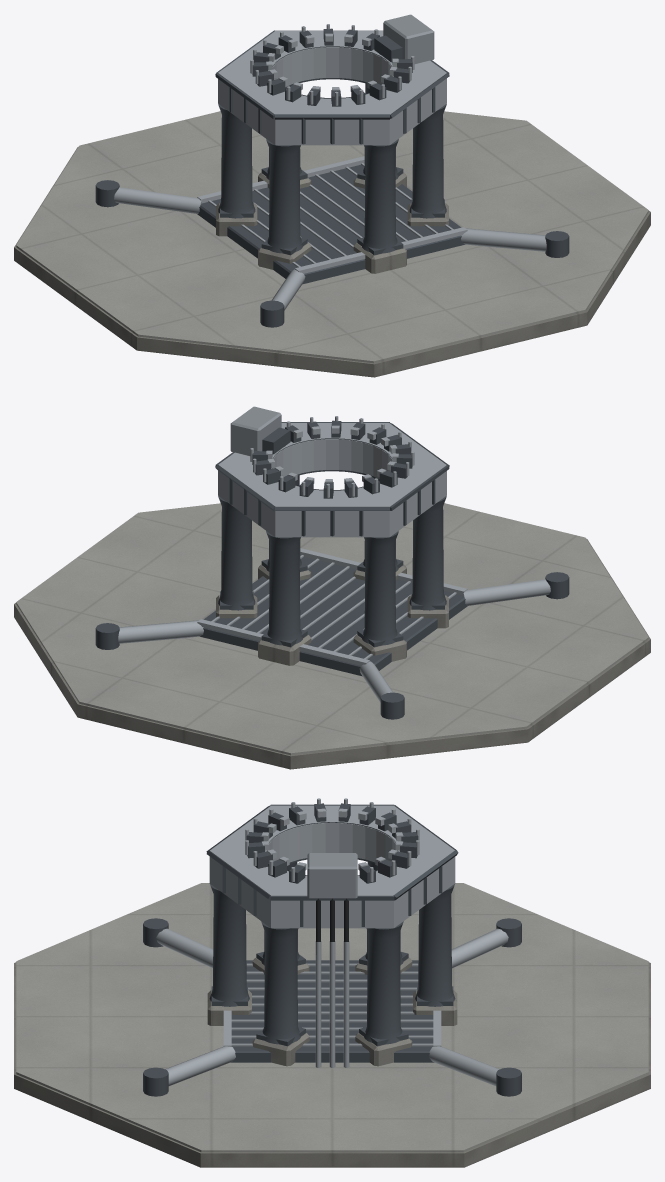
Rendered from mount_raised.glb.
3 renders of one model, top to bottom at view 1: azimuth 30°, elevation 25°; view 2: azimuth 150°, elevation 25°; view 3: azimuth 270°, elevation 25°, orthographic. The views are drawn at different scales.
Visible parts, largest first — view 1: mount_raised, plate; view 2: mount_raised, plate; view 3: mount_raised, plate.
Part boxes in pixels (x1,y1,x2,y2): mount_raised: (14, 14, 650, 377); plate: (95, 156, 569, 327); mount_raised: (14, 406, 650, 769); plate: (95, 548, 569, 719); mount_raised: (14, 798, 650, 1167); plate: (143, 918, 521, 1096).
Size of the model in its own units: 15.82 by 5.84 by 15.82.
6 materials, 2 textured.
